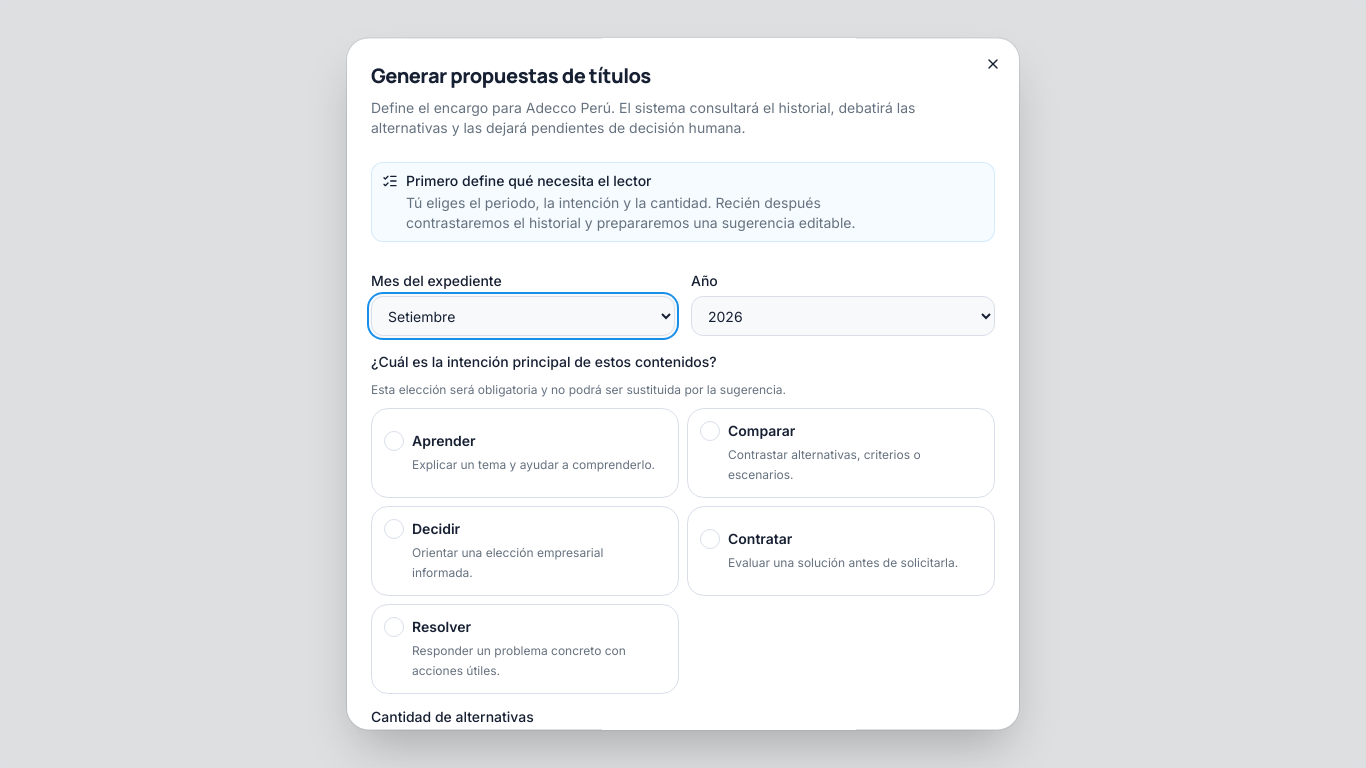
Test: GenerateTitlesDialog › envía exactamente el encargo editado por la persona
Click the button "Decidir Orientar una elección empresarial informada.".
click(525, 551)  # box [371,506,679,596]
(page scrolled)
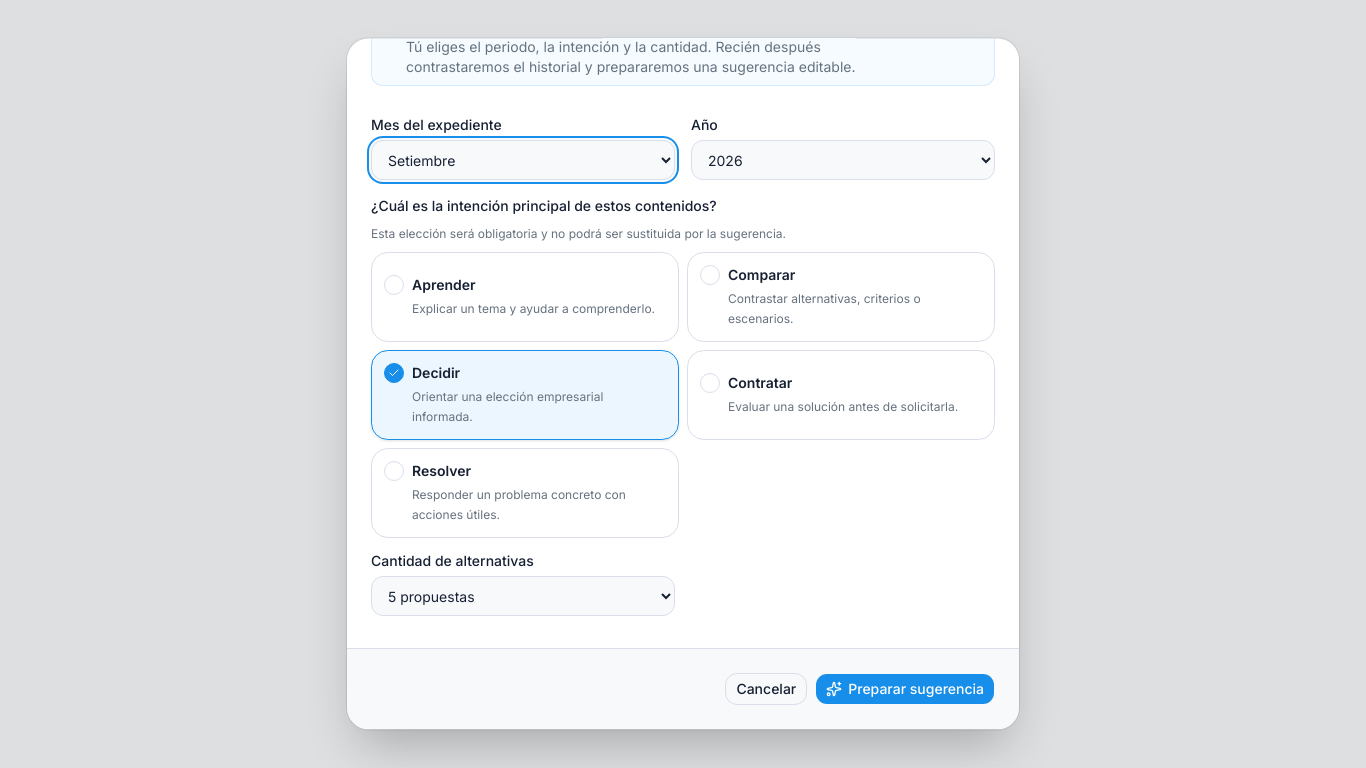
Click the button "Preparar sugerencia".
click(905, 689)  # box [815,673,995,705]
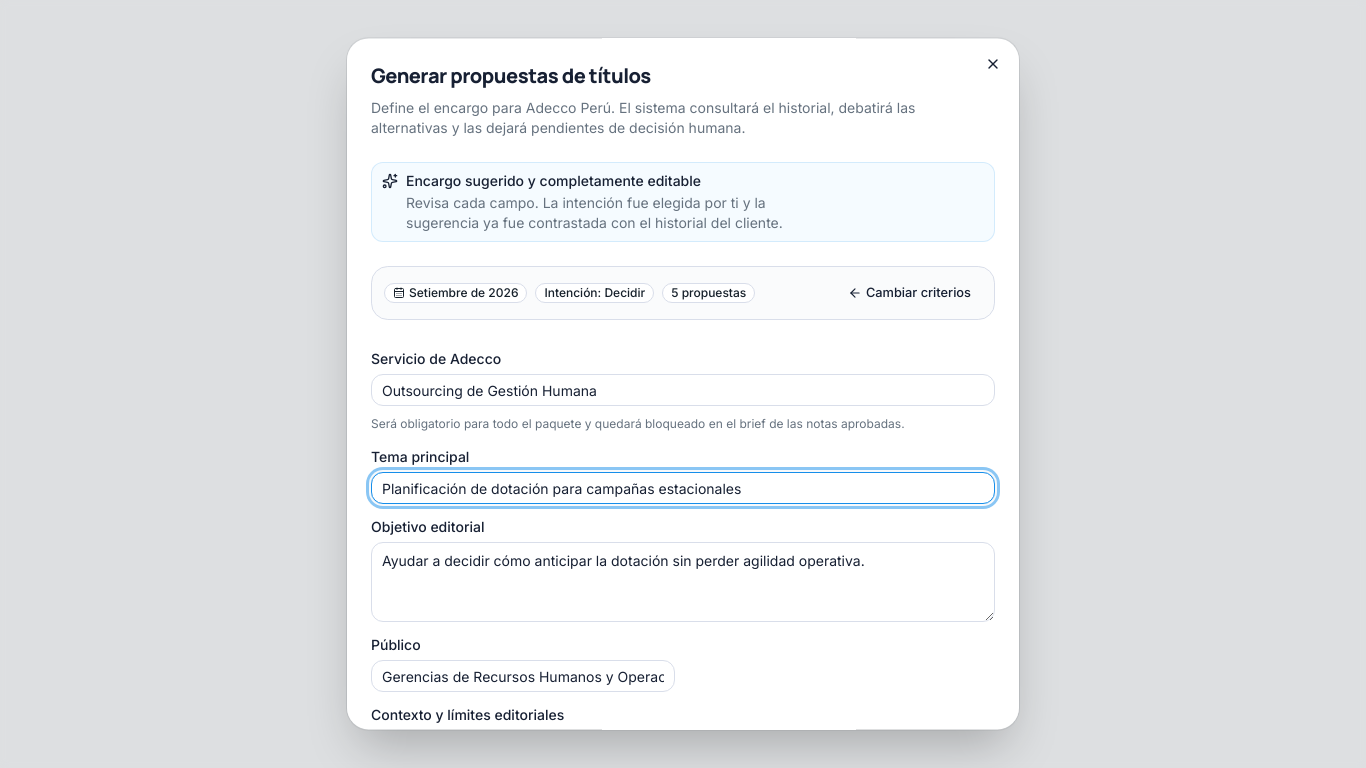
Expected: the field showing "Planificación de dotación para campañas estacionales" is shown
Replace the text in the field labelled "Tema principal" with "Contratación temporal" at (683,488), box [371,472,995,504]
Replace the text in the text box labelled "Objetivo editorial" with "Explicar cómo planificar una campaña estacional con agilidad." at (683,582), box [371,542,995,622]
Replace the text in the field labelled "Público" with "Gerencias de Recursos Humanos" at (523,676), box [371,660,675,692]
(page scrolled)
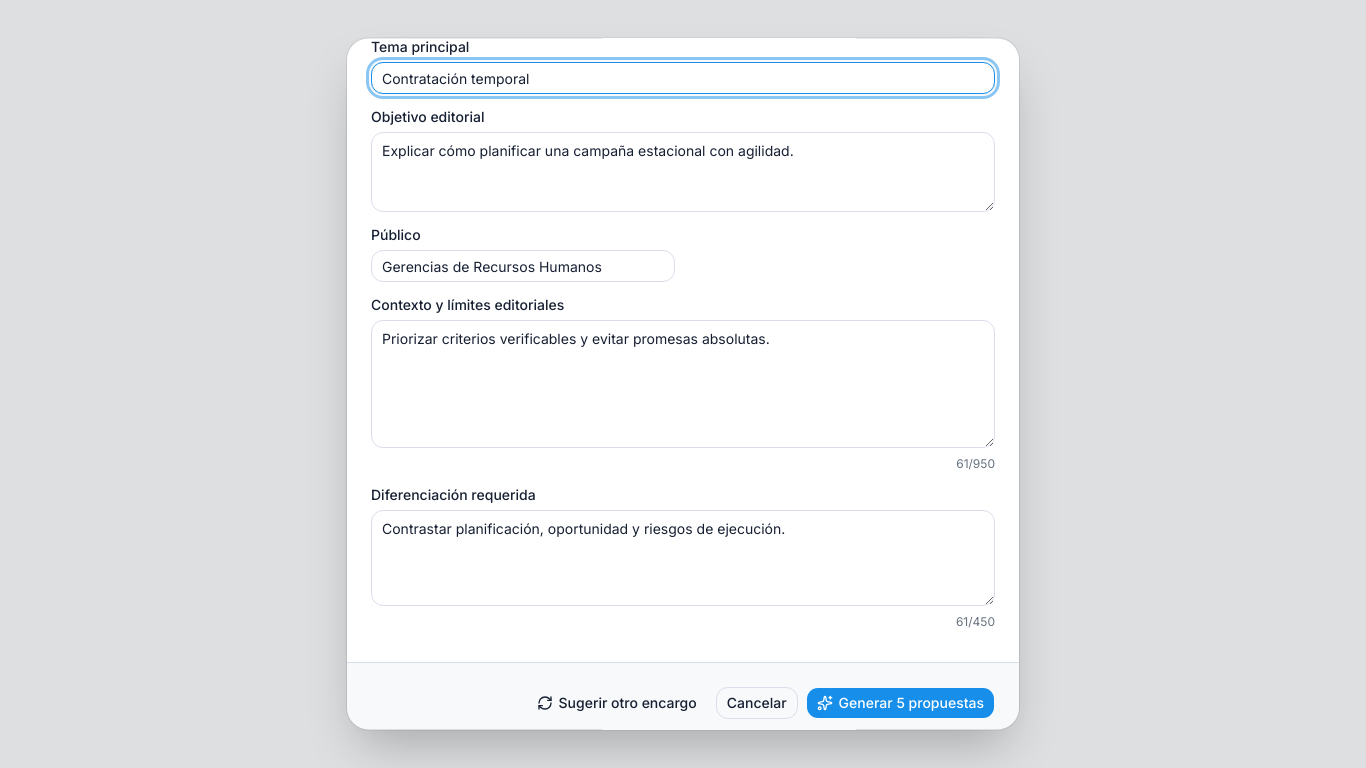
Clear the text box labelled "Contexto y límites editoriales" at (683,384), box [371,320,995,448]
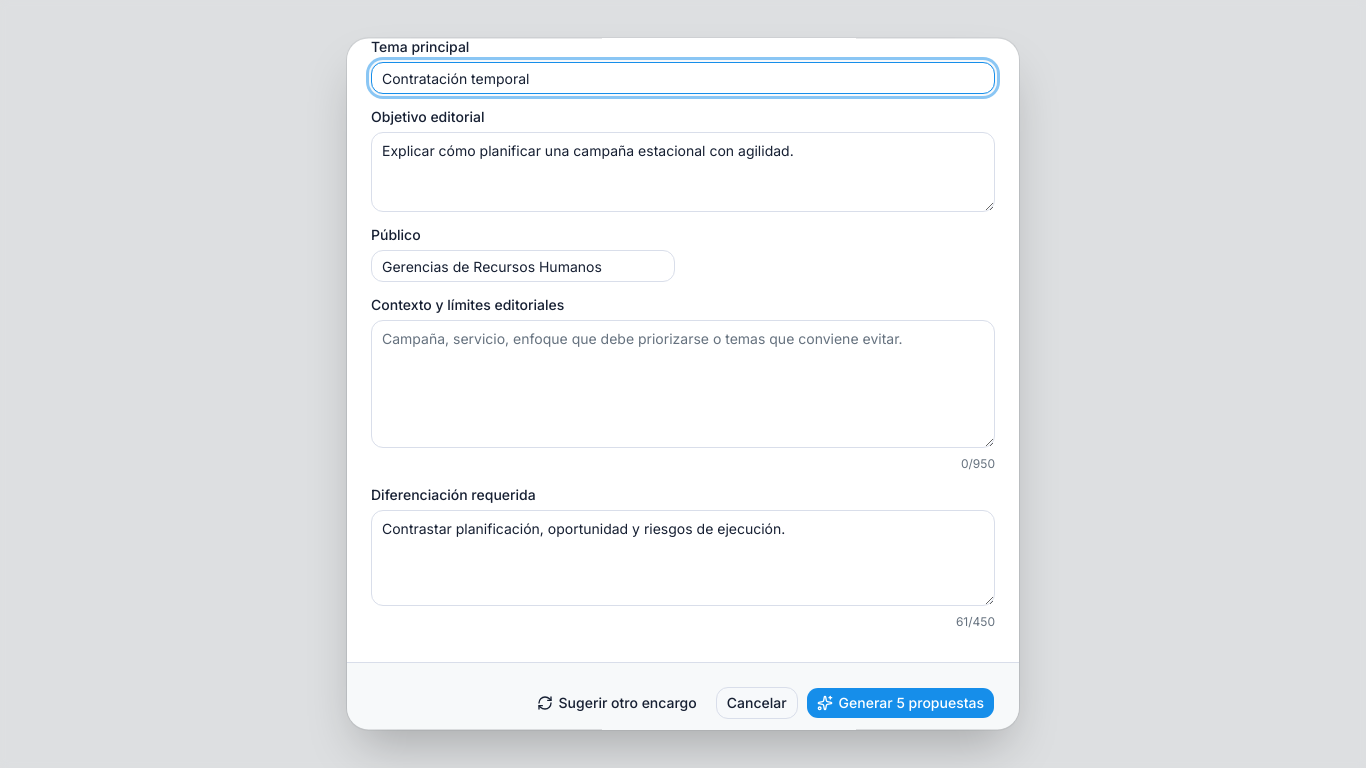
Clear the text box labelled "Diferenciación requerida" at (683,558), box [371,510,995,606]
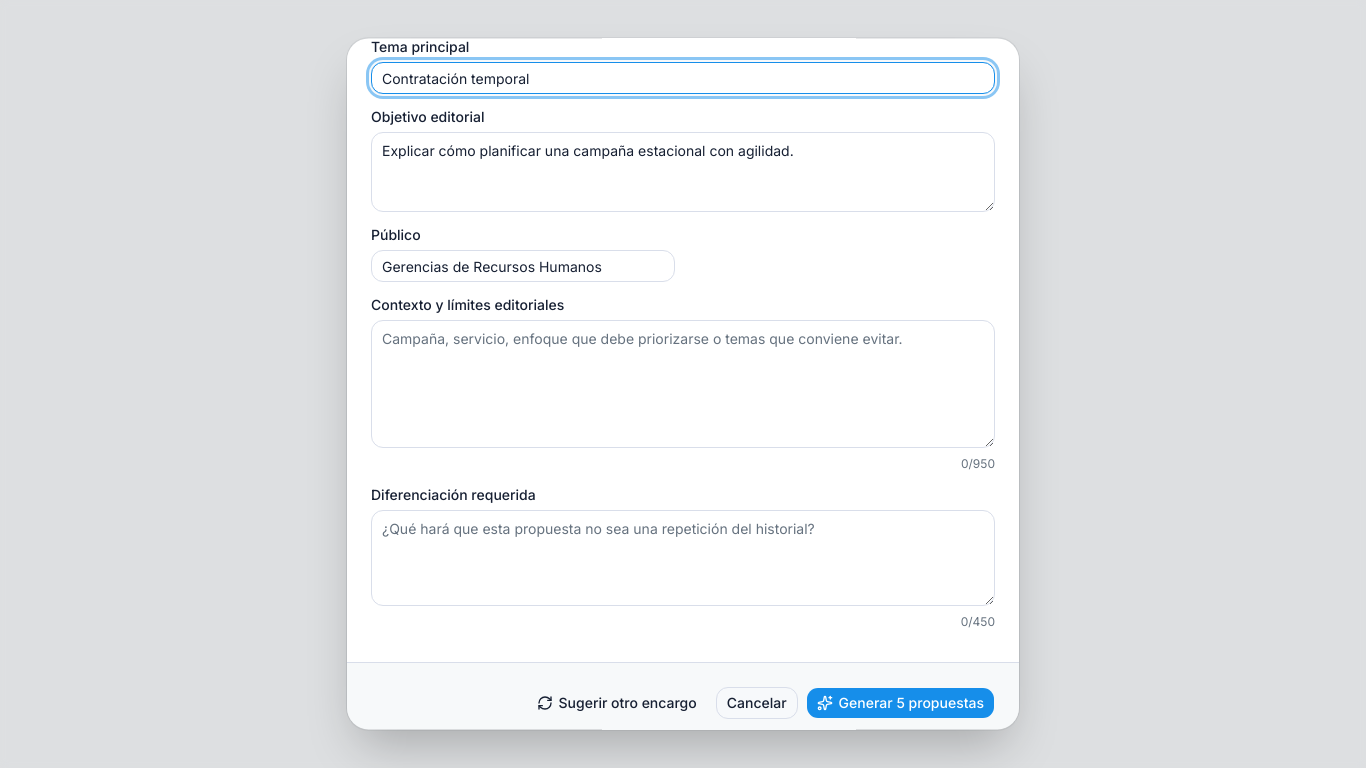
Click the button "Generar 5 propuestas".
click(900, 703)  # box [806,687,995,719]
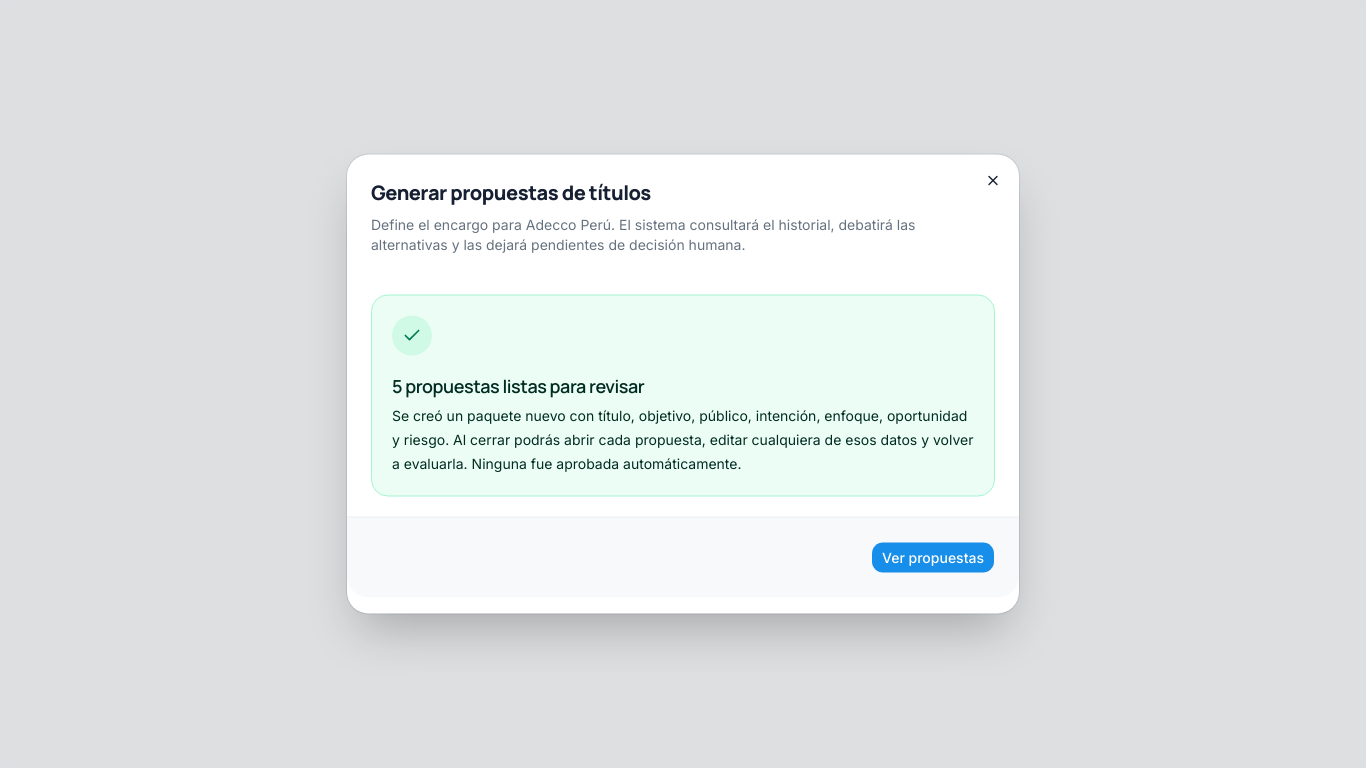
Expected: the heading "5 propuestas listas para revisar" is shown, [392,374,644,398]
